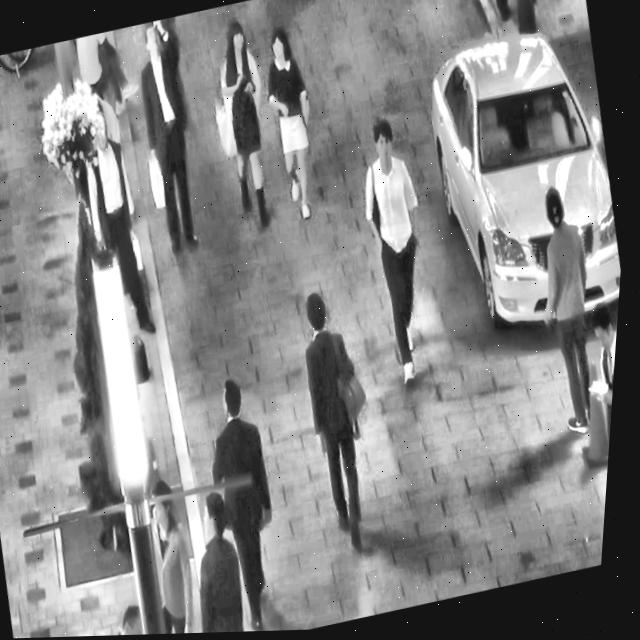light_vehicle: (399, 2, 639, 357)
